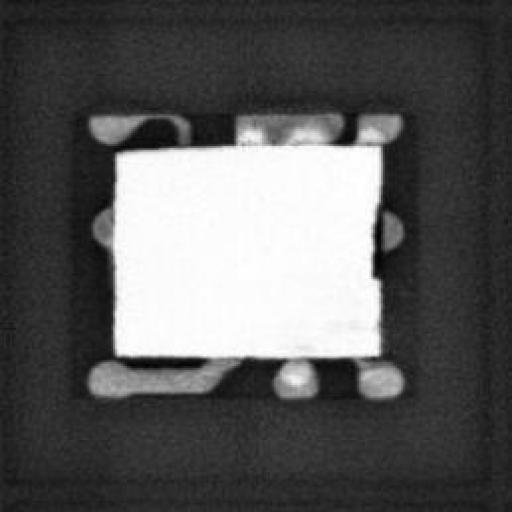DIE_BROKEN: (365, 196, 383, 282)
